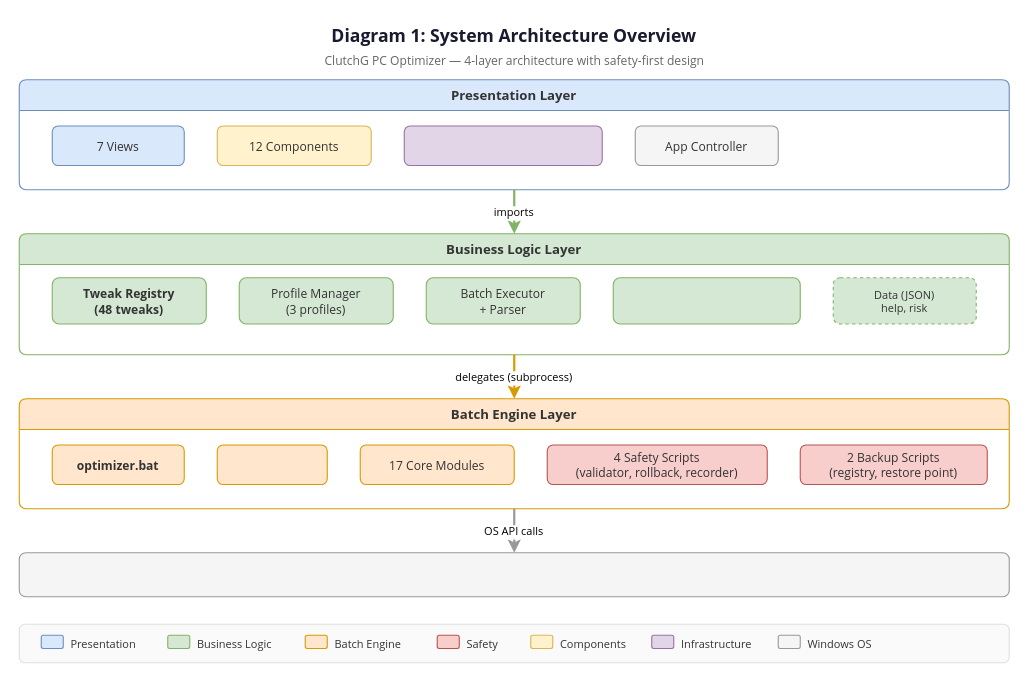
Image size: 1029x682. Some labels were removed from this diagram. The shapes that lost their labels are listed below. From the top down, each one's centre as x and y in pixels, then its label:
point (502, 145): Theme + Fonts + Icons
point (706, 300): 9 Support Modules (backup, config, etc.)
point (271, 464): 3 Profiles
point (513, 574): Windows OS (reg.exe, sc.exe, powercfg, netsh, bcdedit)
